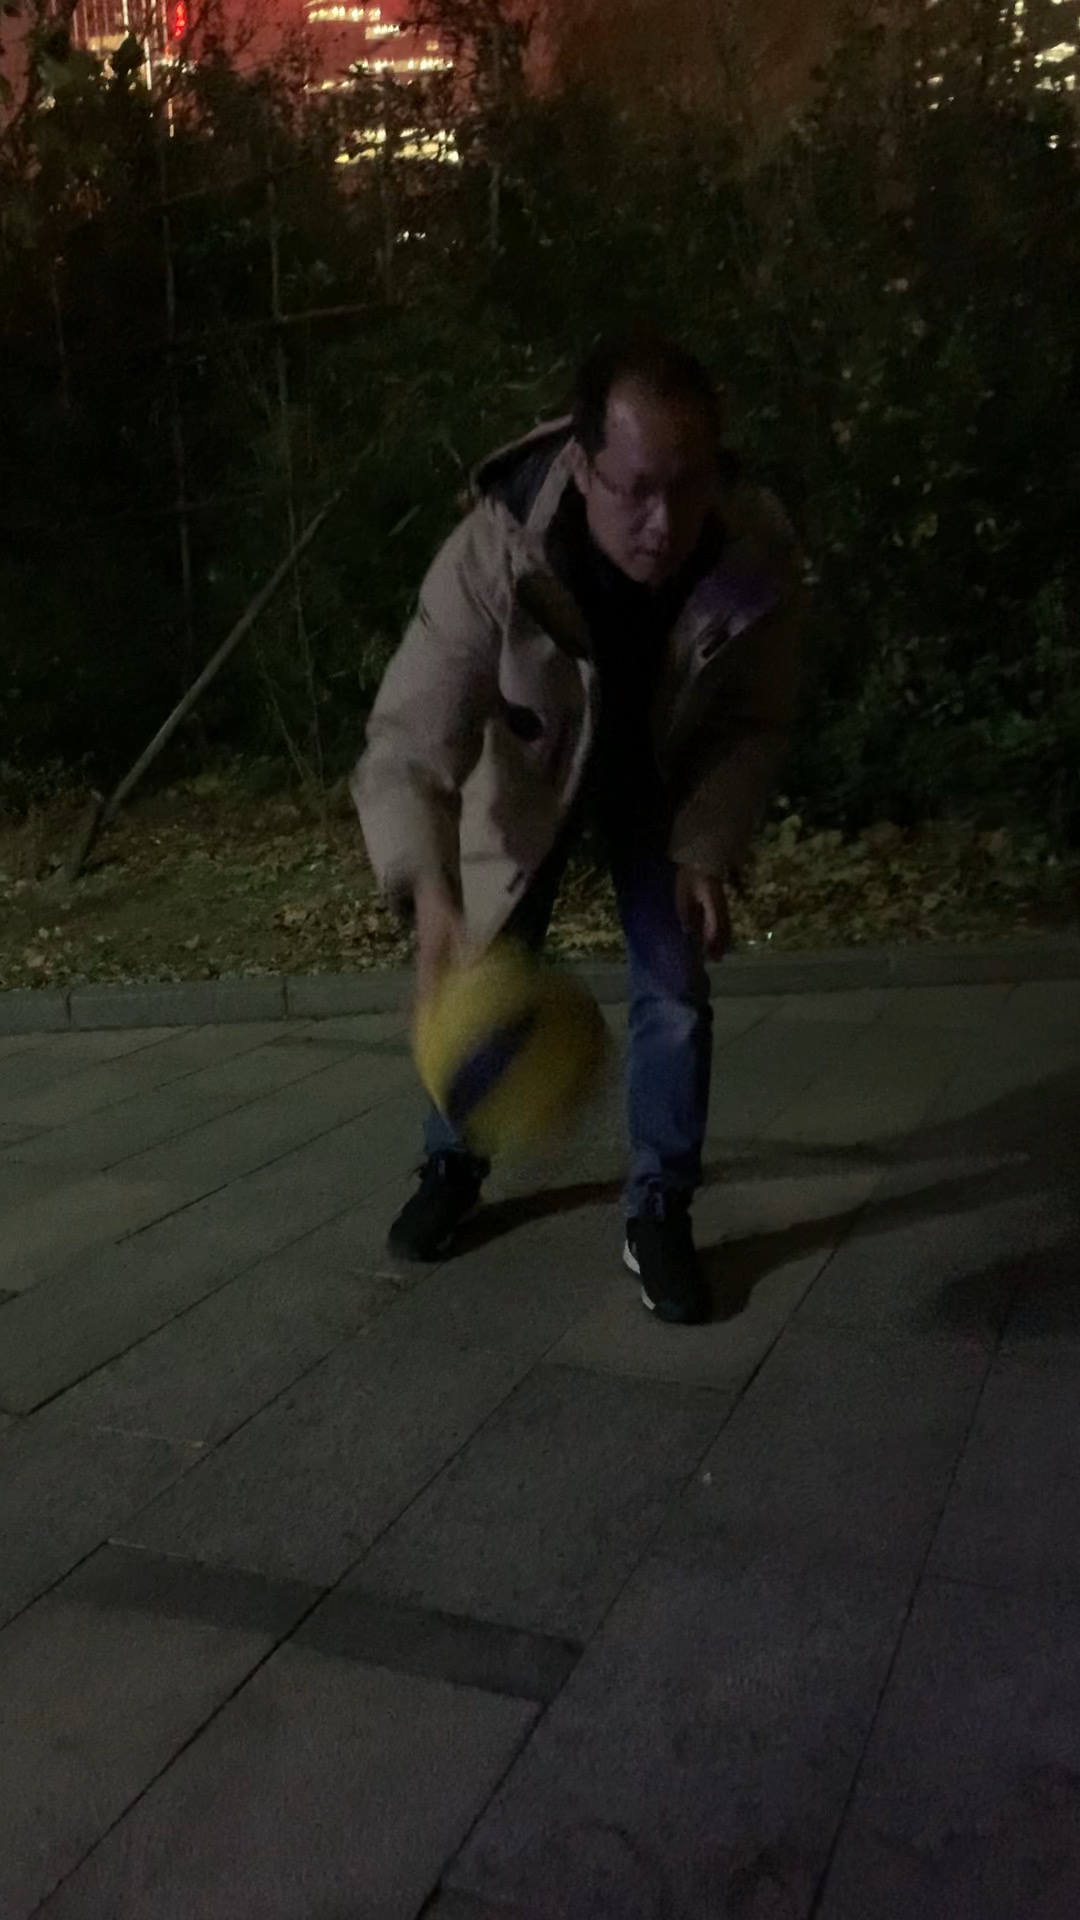ball: (409, 955, 615, 1155)
